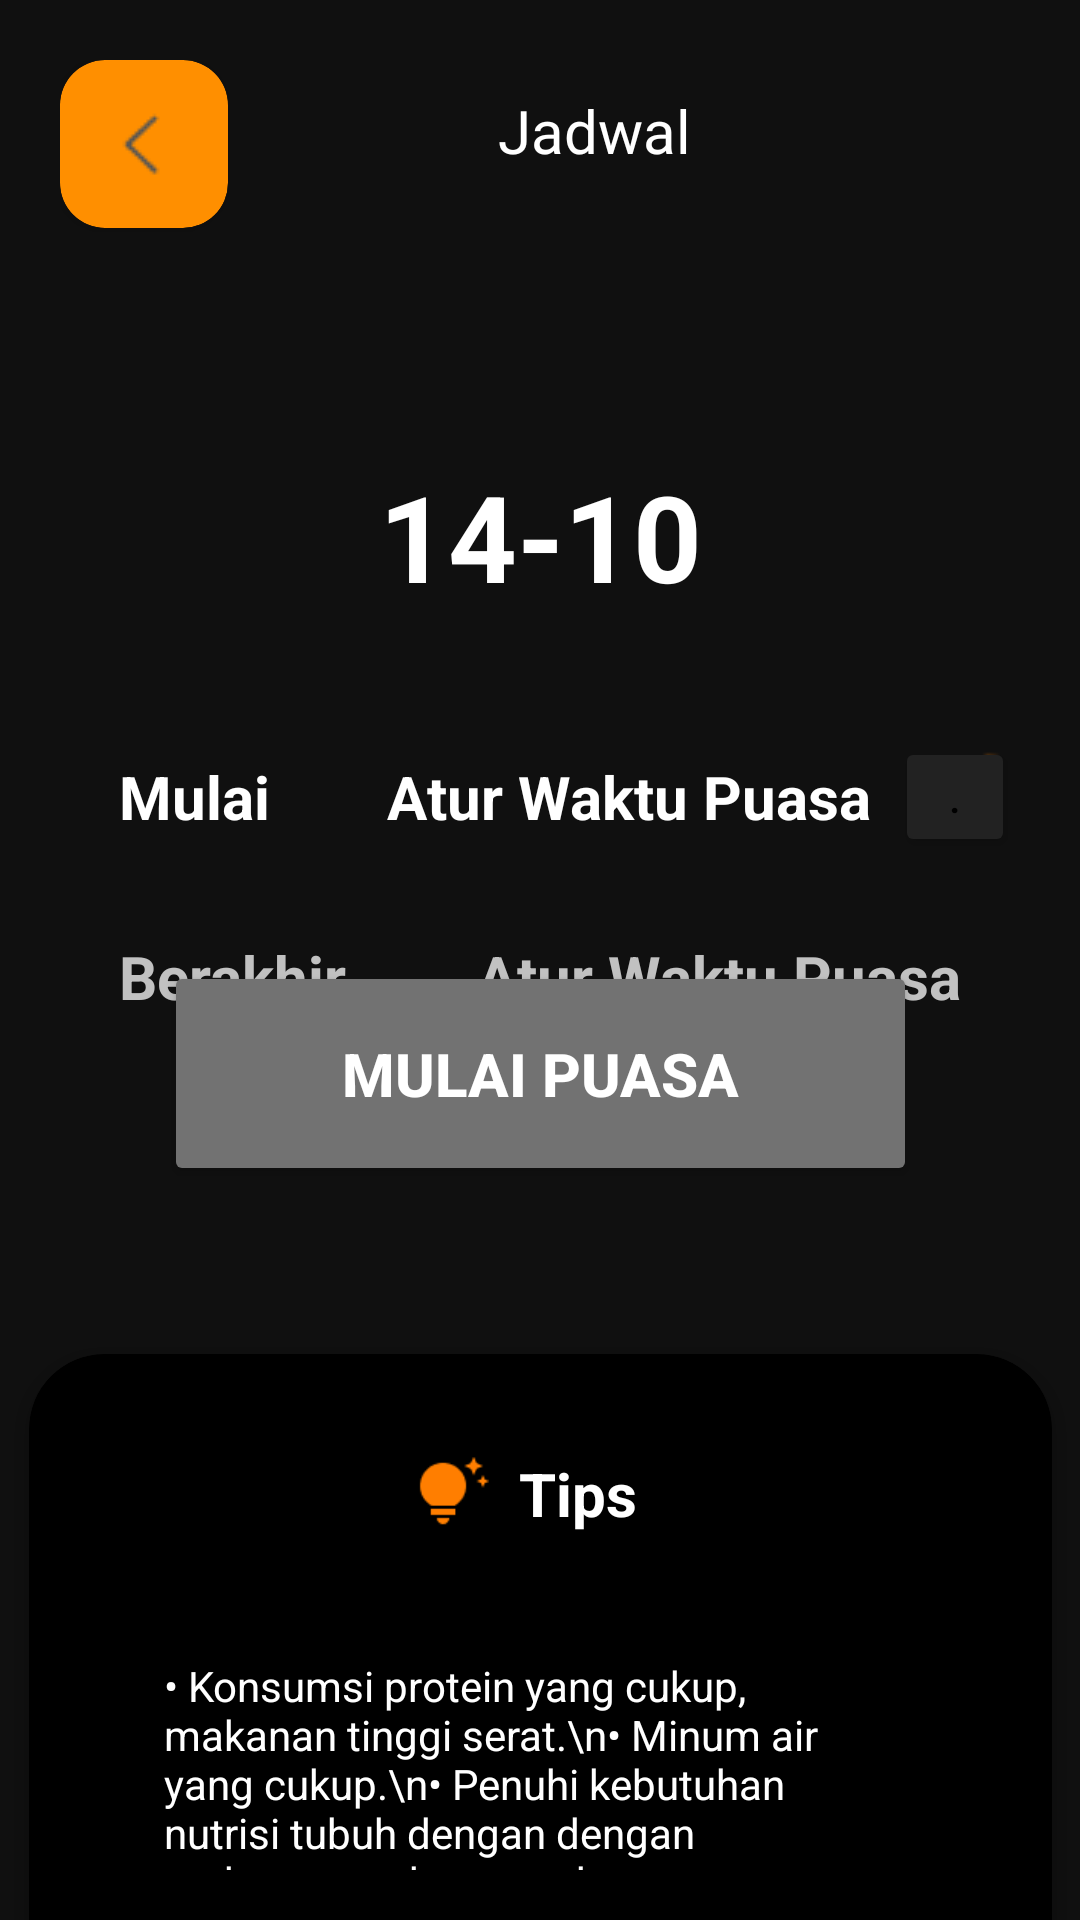

Screen size 1080×1920. Icon name, then its box in pixels as {"x1": x1, "y1": y1, "x2": x2, "y2": y2}:
back arrow: {"x1": 60, "y1": 60, "x2": 228, "y2": 228}
